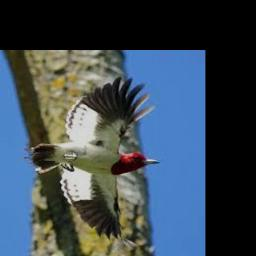Woodpecker: (25, 77, 160, 246)
